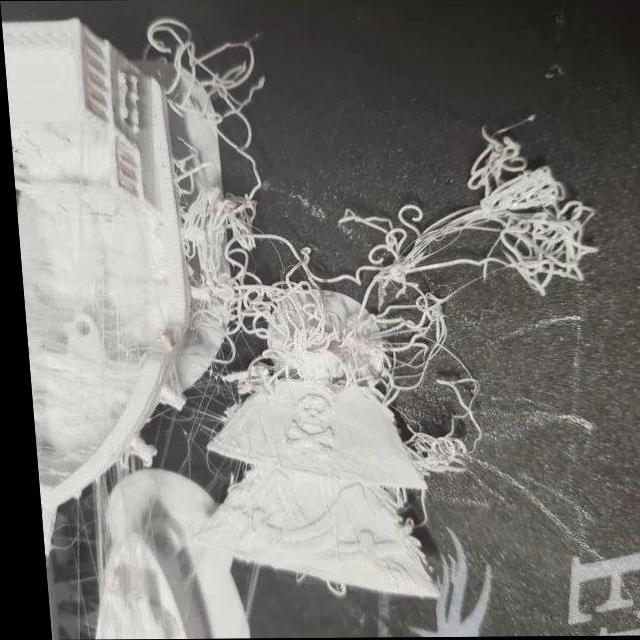spaghetti: (473, 155, 588, 290), (161, 20, 260, 132), (357, 211, 437, 323), (193, 204, 258, 323), (255, 290, 329, 360), (358, 306, 429, 378)
